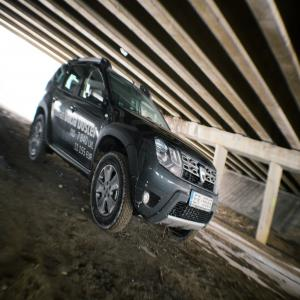Vehicle-registration-plate: (191, 194, 214, 209)
